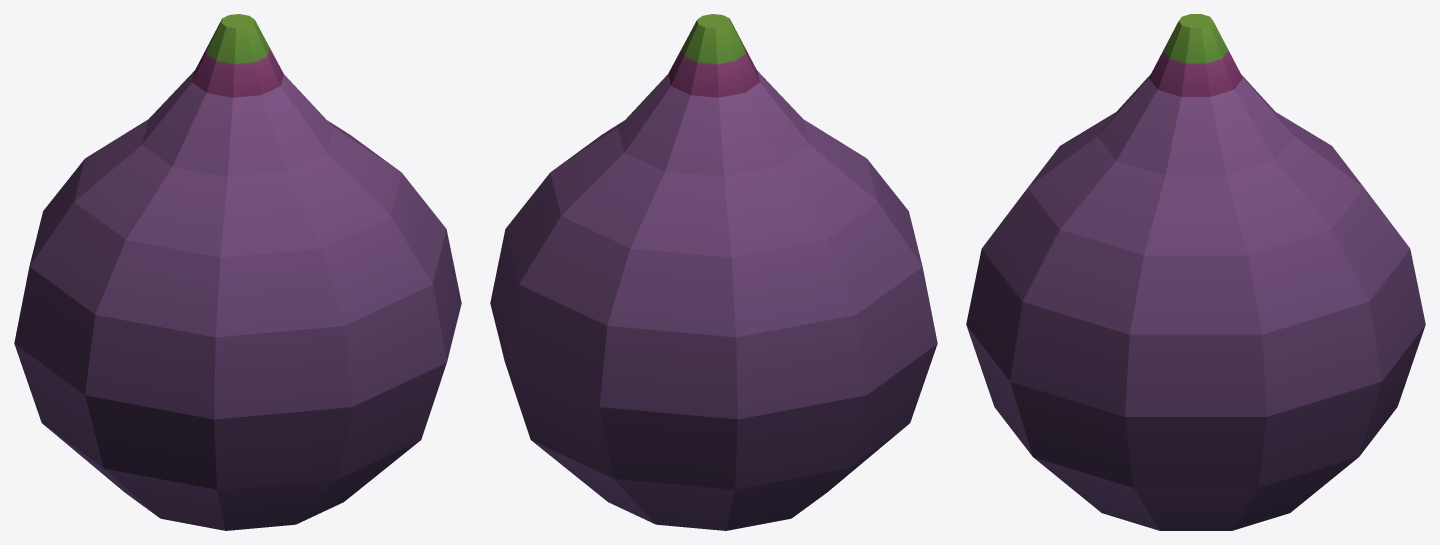
The model's file is Fig.fbx.
3 renders of one model, left to right at view 1: azimuth 30°, elevation 25°; view 2: azimuth 150°, elevation 25°; view 3: azimuth 270°, elevation 25°, orthographic.
Parts seen in each view (by area): view 1: Fig; view 2: Fig; view 3: Fig.
Part boxes in pixels (x1,y1,x2,y2): Fig: (14,14,461,530); Fig: (490,14,937,530); Fig: (966,14,1425,530).
Bounding box in the file's own units: 8.94 × 11.09 × 9.4.
